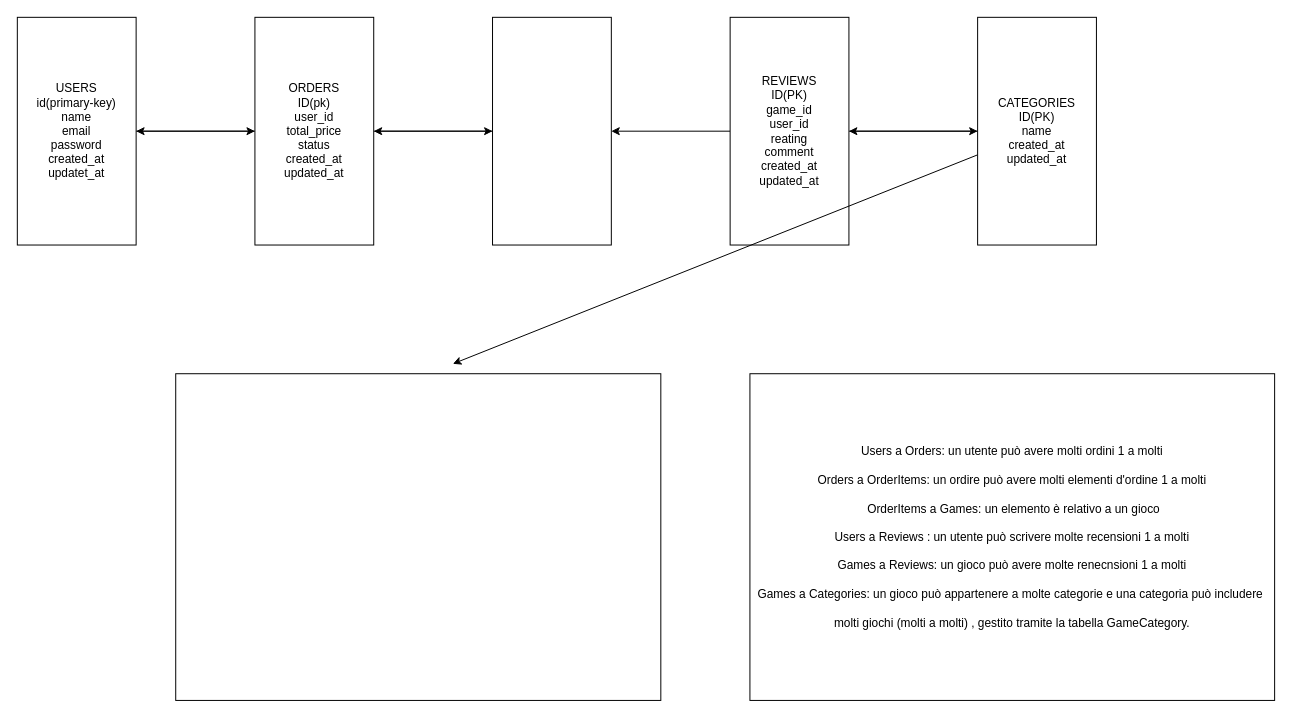
Image size: 1292x718. Some labels were removed from this diagram. Here are the shapes that lost their labels. From the top down, the centre of each, then its label:
(x=551, y=130): ORDERITEMS ID(pk) order_id game_id quantity price created_at updated_at
(x=418, y=536): GAME CATEOGRY ID(PK) game_id category_id
